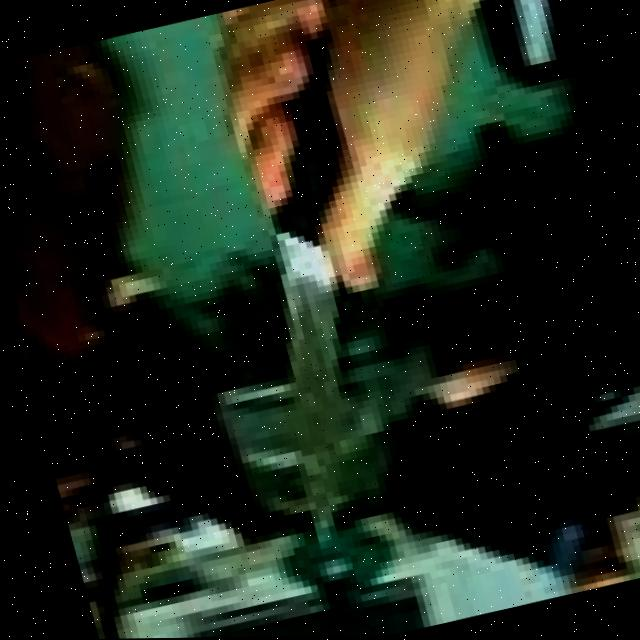knife: (187, 29, 457, 546)
